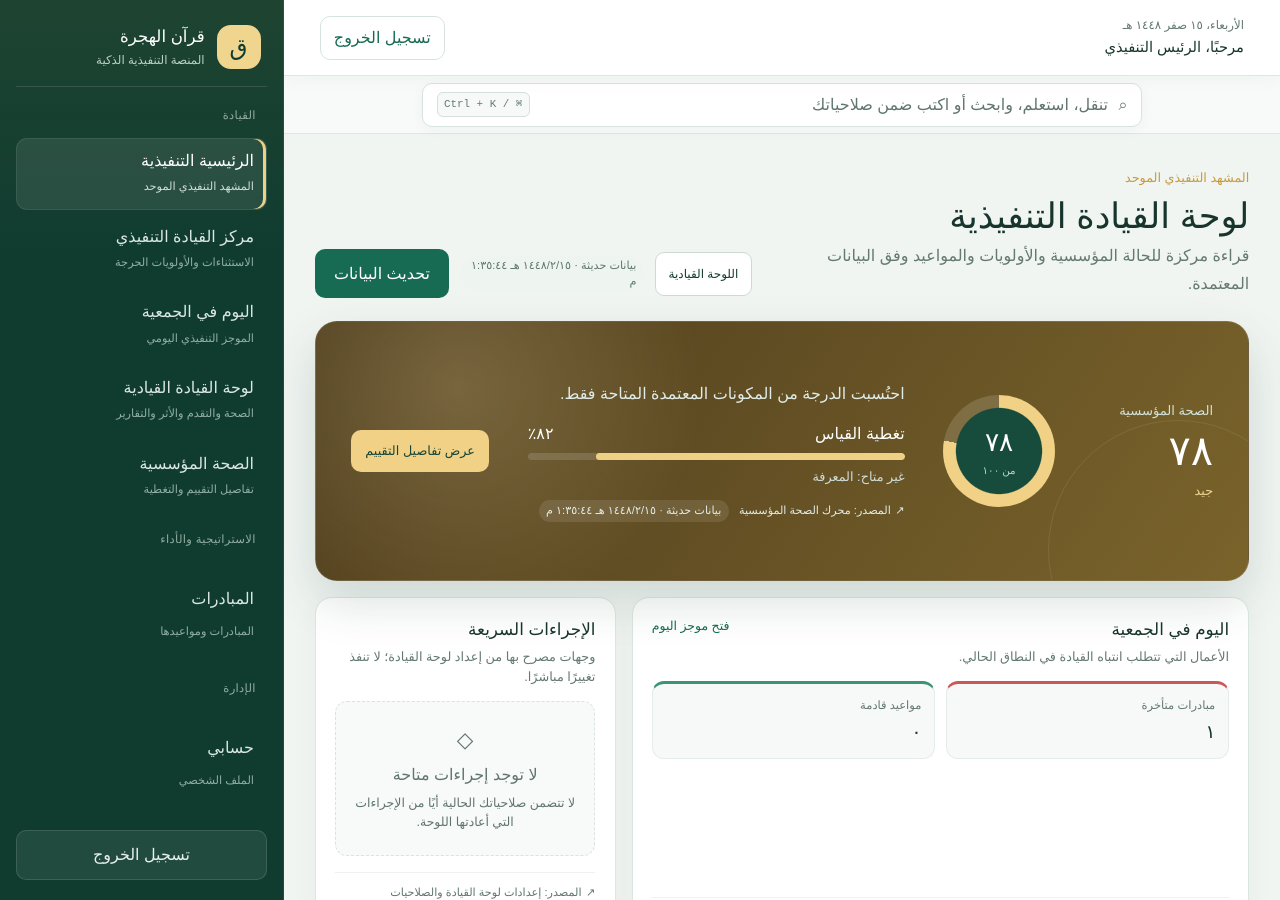
Scenario: Sprint 1C governed executive Smart Bar › renders structured-query sources, freshness, limitations, and only authorized actions
Expected: the heading "لوحة القيادة التنفيذية" is shown, [949,196,1249,234]
Step 1. Press k
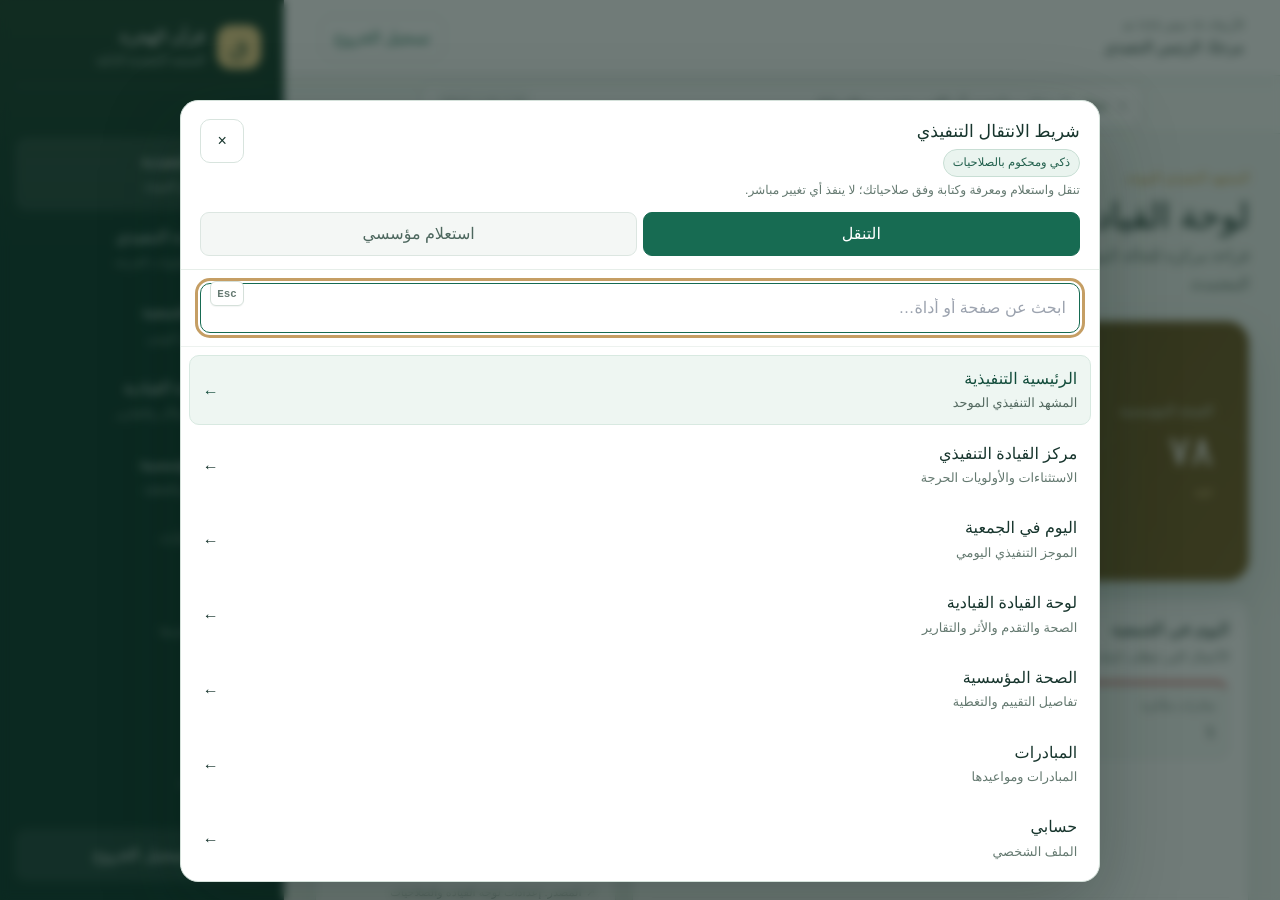
Step 2. Click the tab "استعلام مؤسسي" → (419, 234), box [200,212,637,256]
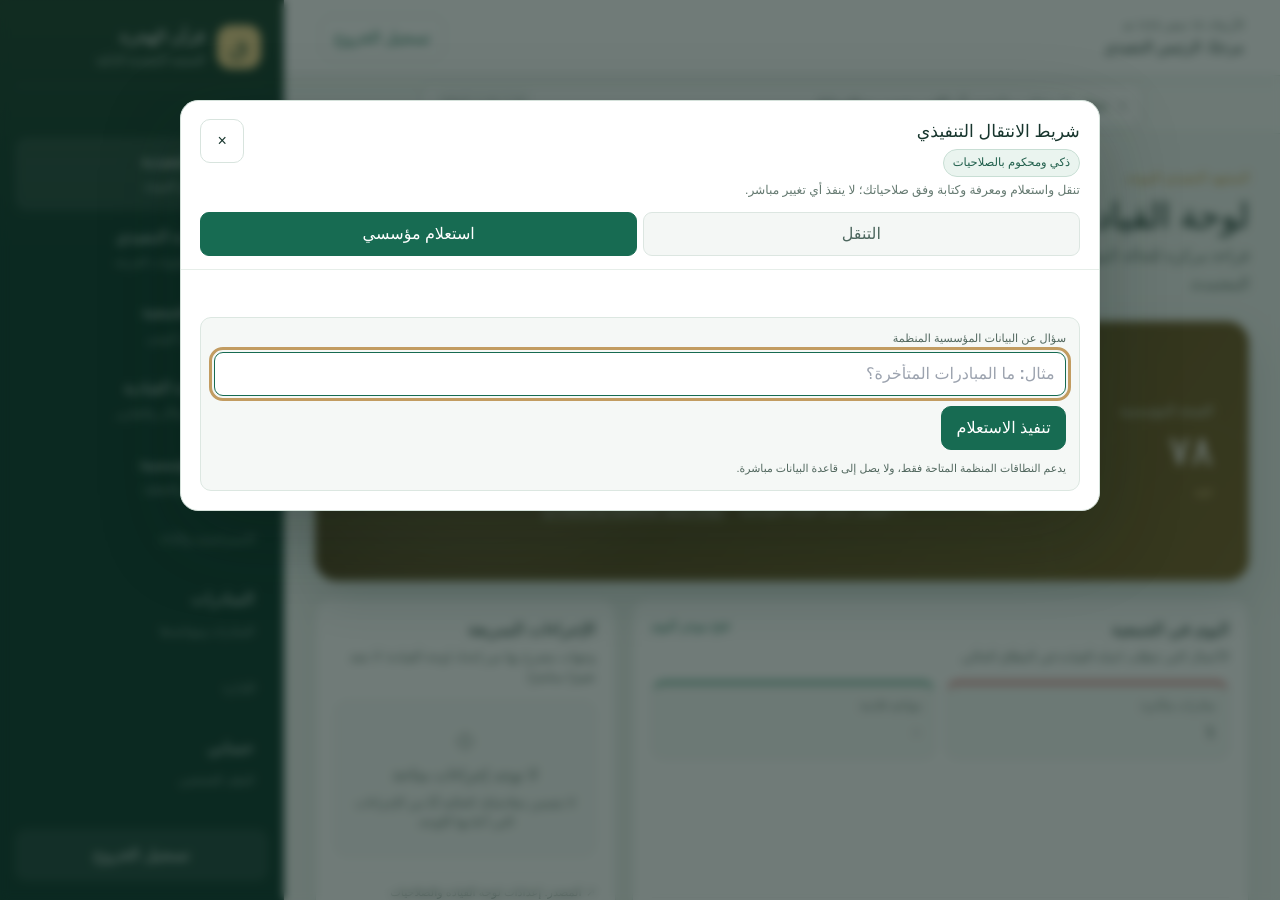
Step 3. Type "ما المبادرات المتأخرة؟" into the field labelled "سؤال عن البيانات المؤسسية المنظمة" → (640, 374), box [214,352,1066,396]
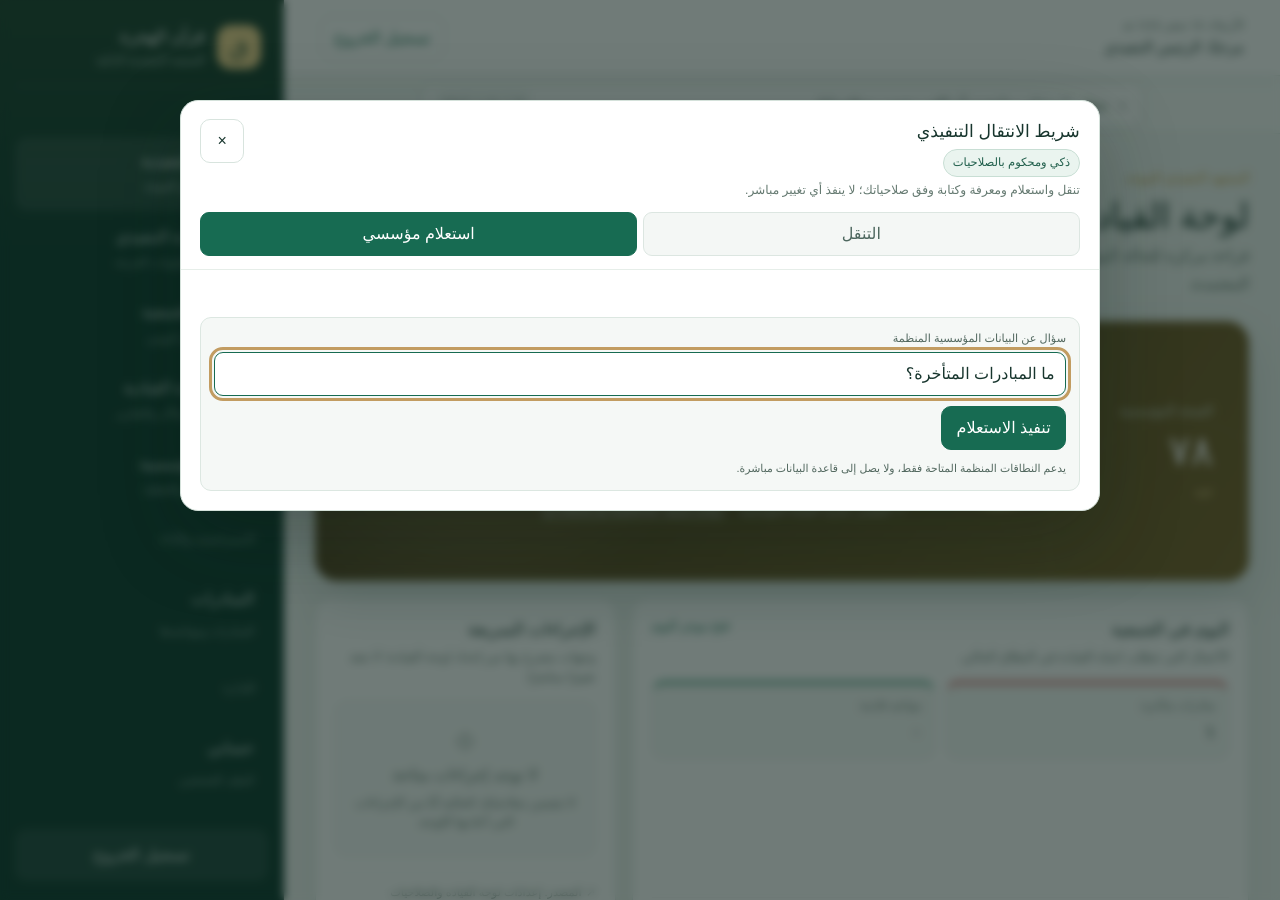
Step 4. Click the button "تنفيذ الاستعلام" → (1004, 428), box [941,406,1066,450]
(page scrolled)
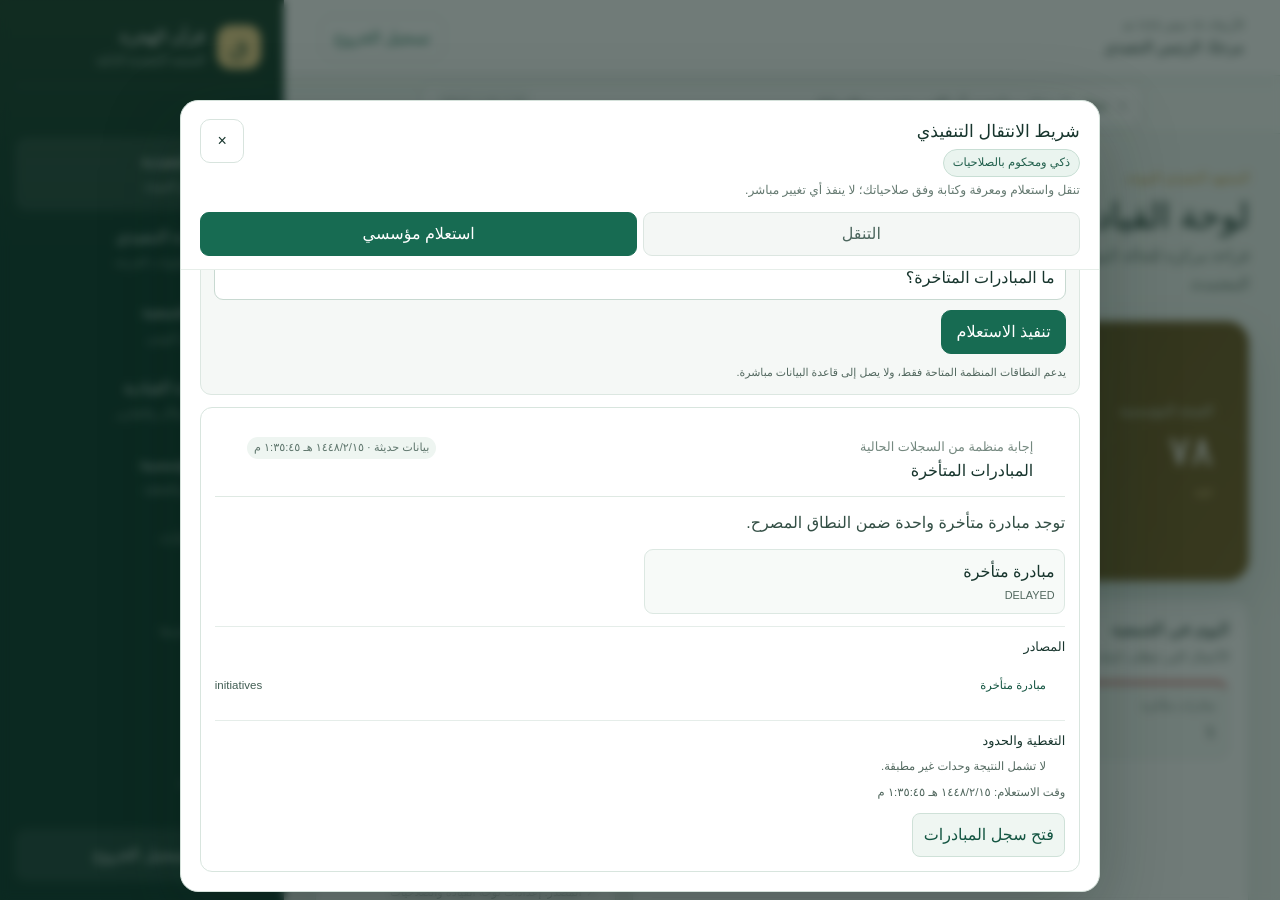
Expected: the heading "المبادرات المتأخرة" is shown, [911,462,1033,479]
Expected: the text "توجد مبادرة متأخرة واحدة ضمن النطاق المصرح." is shown, [746,514,1065,531]
Expected: the list item "لا تشمل النتيجة وحدات غير مطبقة." is shown, [881,760,1046,772]
